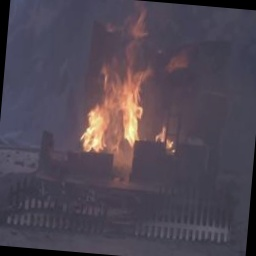fire: (68, 52, 173, 162)
